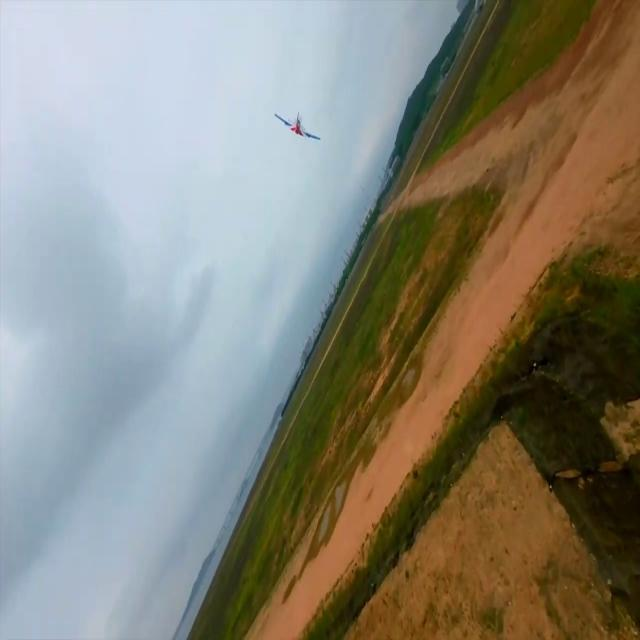iha: (265, 46, 323, 81)
